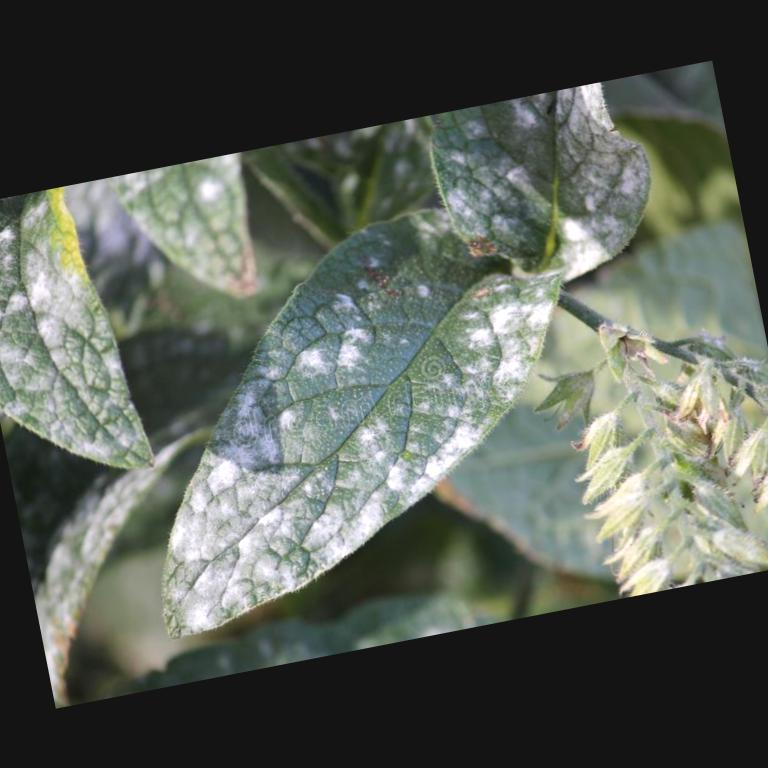powdery-mildew: (188, 442, 354, 604)
